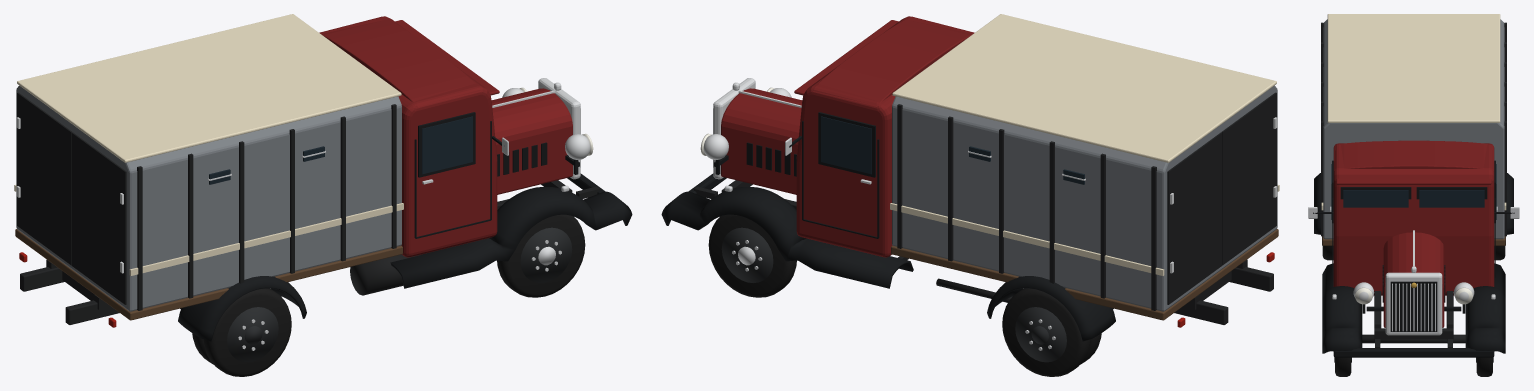
Rendered from balogh_armoured_truck.glb.
3 renders of one model, left to right at view 1: azimuth 30°, elevation 25°; view 2: azimuth 150°, elevation 25°; view 3: azimuth 270°, elevation 25°, orthographic. The views are drawn at different scales.
Visible parts, largest first — view 1: bau, teto_bau, cabine, paralama_d.001, porta_t_d, porta_t_e, teto_abaulado, capo, roda_t_pneu0.001, piso, roda_d_pneu0.001, paralama_t.001 (+17 smaller); view 2: bau, teto_bau, cabine, paralama_d, porta_t_e, porta_t_d, teto_abaulado, capo, roda_t_pneu1, piso, roda_d_pneu0, paralama_t (+16 smaller); view 3: teto_bau, cabine, bau, teto_abaulado, paralama_d.001, paralama_d, capo, radiador_colmeia, para_choque, radiador_moldura, parabrisa, parabrisa.001 (+18 smaller).
Part boxes in pixels (x1,y1,x2,y2): bau: (16,85,401,311); teto_bau: (17,14,401,162); cabine: (319,16,497,257); paralama_d.001: (390,187,632,288); porta_t_d: (71,132,126,304); porta_t_e: (17,92,71,265); teto_abaulado: (321,19,481,107); capo: (491,88,572,194); roda_t_pneu0.001: (203,288,291,376); piso: (15,229,402,320); roda_d_pneu0.001: (497,214,585,297); paralama_t.001: (178,276,306,341); bau: (892,85,1277,311); teto_bau: (892,14,1276,162); cabine: (796,16,974,257); paralama_d: (661,187,913,288); porta_t_e: (1167,132,1222,304); porta_t_d: (1222,92,1276,265); teto_abaulado: (812,19,972,107); capo: (721,88,802,194); roda_t_pneu1: (1002,288,1090,376); piso: (891,229,1278,320); roda_d_pneu0: (708,214,796,297); paralama_t: (987,276,1115,341); teto_bau: (1327,14,1500,122); cabine: (1333,143,1494,295); bau: (1323,19,1504,239); teto_abaulado: (1334,140,1493,170); paralama_d.001: (1322,263,1362,353); paralama_d: (1465,263,1505,353); capo: (1383,232,1444,327); radiador_colmeia: (1390,281,1437,331); para_choque: (1333,348,1494,357); radiador_moldura: (1385,272,1442,335); parabrisa: (1419,190,1484,207); parabrisa.001: (1343,190,1408,207).
Size of the model in its own units: 5.69 by 2.49 by 2.45.
